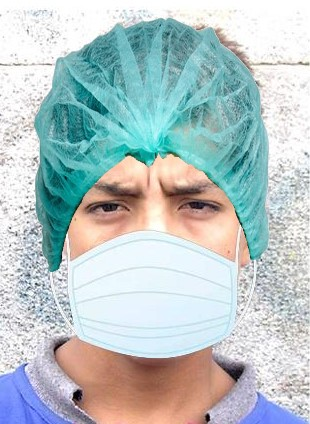with_mask_and_cap: (26, 25, 262, 361)
